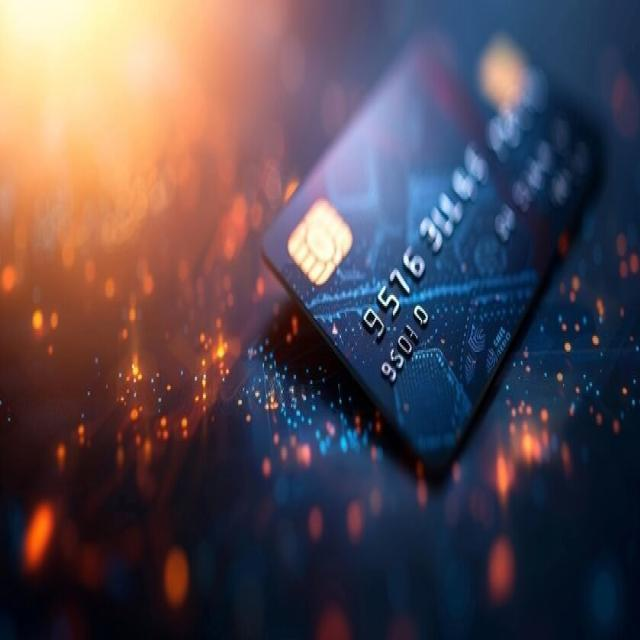payment_card: (258, 29, 601, 471)
